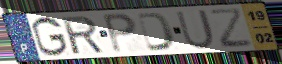D: (135, 11, 177, 53)
G: (30, 15, 70, 58)
P: (101, 12, 140, 56)
R: (59, 14, 107, 56)
U: (174, 8, 217, 51)
Z: (207, 7, 256, 50)
